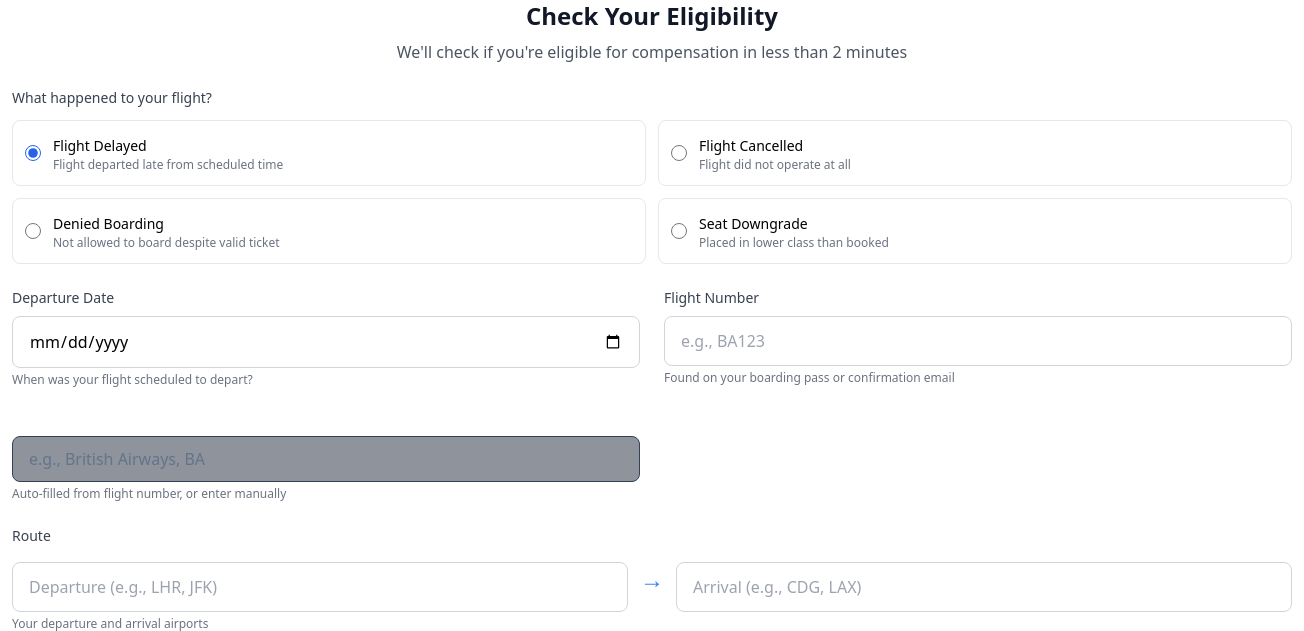
Test: FlightLookupForm - Collapsible Info Boxes › should expand info box when clicked
The width and height of the screenshot is (1304, 631).
Click the radio button labelled "Flight Cancelled Flight did not operate at all". click: (679, 153)
box: [671,145,687,161]
(page scrolled)
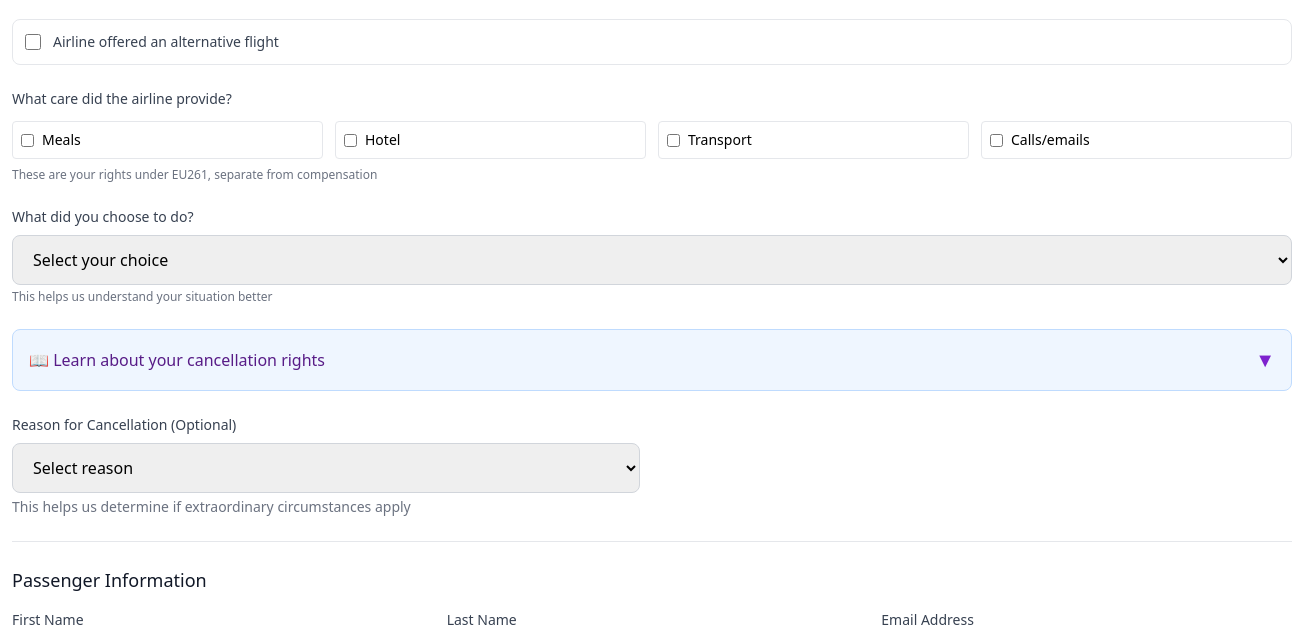
Check: the text "Less than 7 days notice: Usually eligible" is not shown
// Click to expand
Click the text "📖 Learn about your cancellation rights". click: (177, 360)
box: [29,348,325,372]
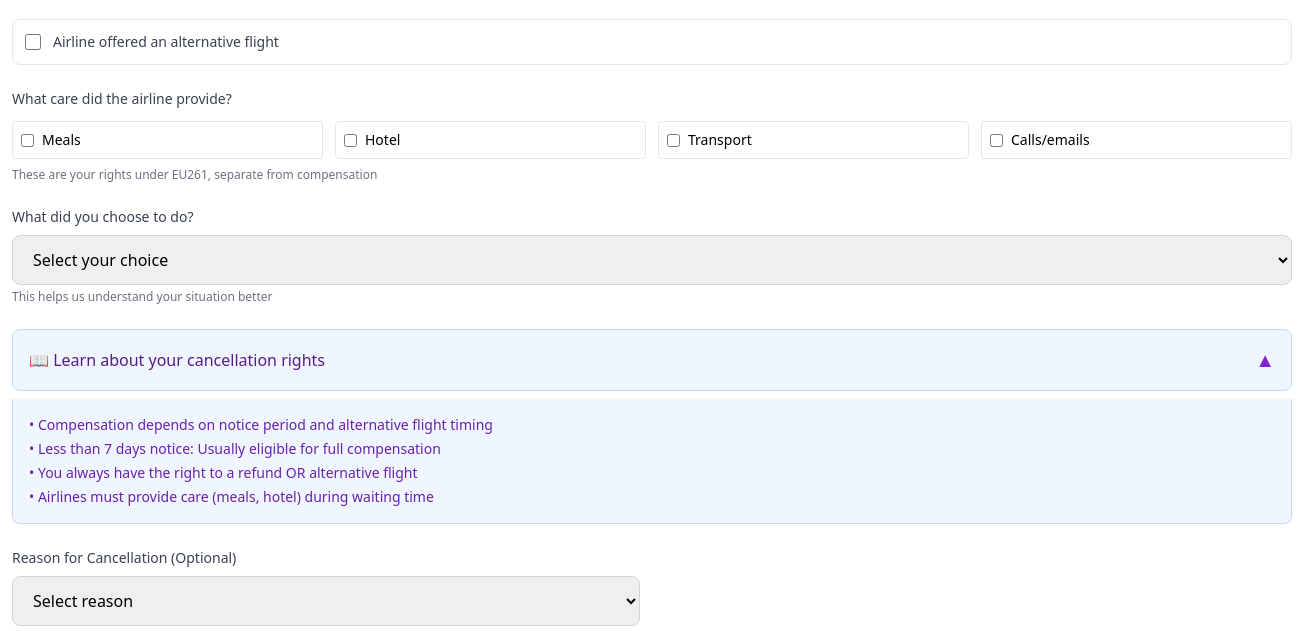
Check: the list item "Less than 7 days notice" is shown, box [29,439,441,458]
